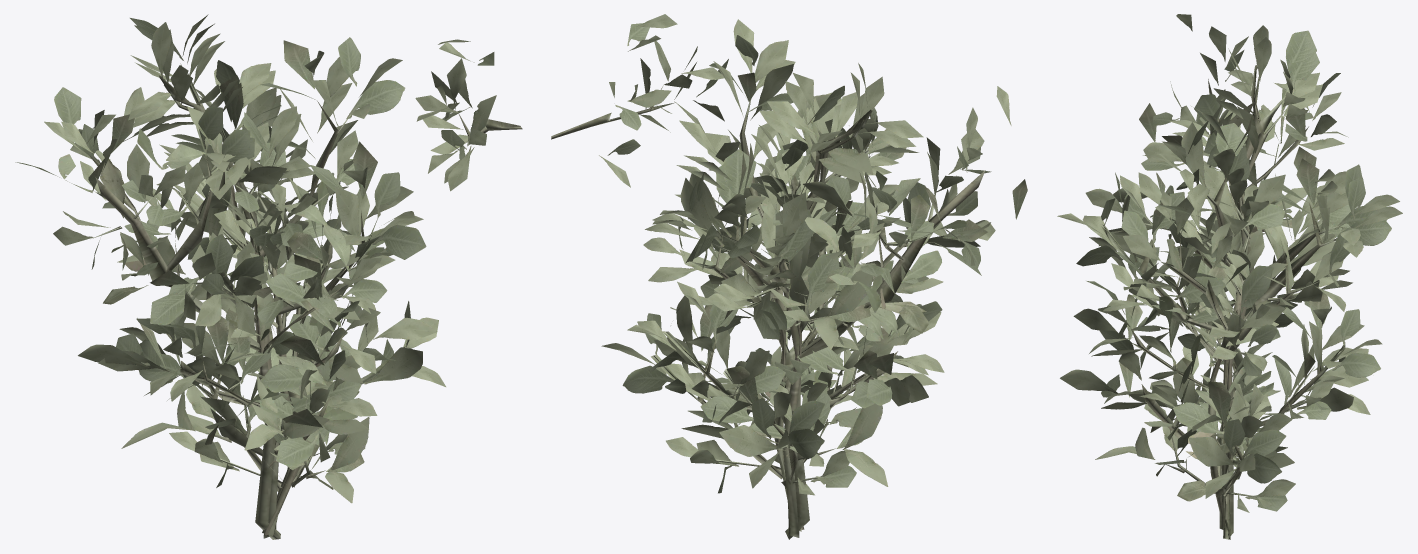
The model's file is sage.glb.
3 renders of one model, left to right at view 1: azimuth 30°, elevation 25°; view 2: azimuth 150°, elevation 25°; view 3: azimuth 270°, elevation 25°, orthographic. The views are drawn at different scales.
Visible parts, largest first — view 1: shrub_04_d, shrub_04_c, shrub_04_b, shrub_04_a; view 2: shrub_04_c, shrub_04_d, shrub_04_b, shrub_04_a; view 3: shrub_04_d, shrub_04_c, shrub_04_b, shrub_04_a.
Part boxes in pixels (<box>): shrub_04_d: <box>15,23,426,538</box>; shrub_04_c: <box>78,14,522,539</box>; shrub_04_b: <box>98,122,384,535</box>; shrub_04_a: <box>228,172,445,535</box>; shrub_04_c: <box>551,14,944,539</box>; shrub_04_d: <box>645,72,1027,537</box>; shrub_04_b: <box>627,163,928,531</box>; shrub_04_a: <box>601,148,868,529</box>; shrub_04_d: <box>1057,14,1402,536</box>; shrub_04_c: <box>1089,25,1399,539</box>; shrub_04_b: <box>1073,185,1382,529</box>; shrub_04_a: <box>1095,218,1295,515</box>.
Size of the model in its own units: 0.2042 by 0.2198 by 0.1453.
1 material, 1 textured.
